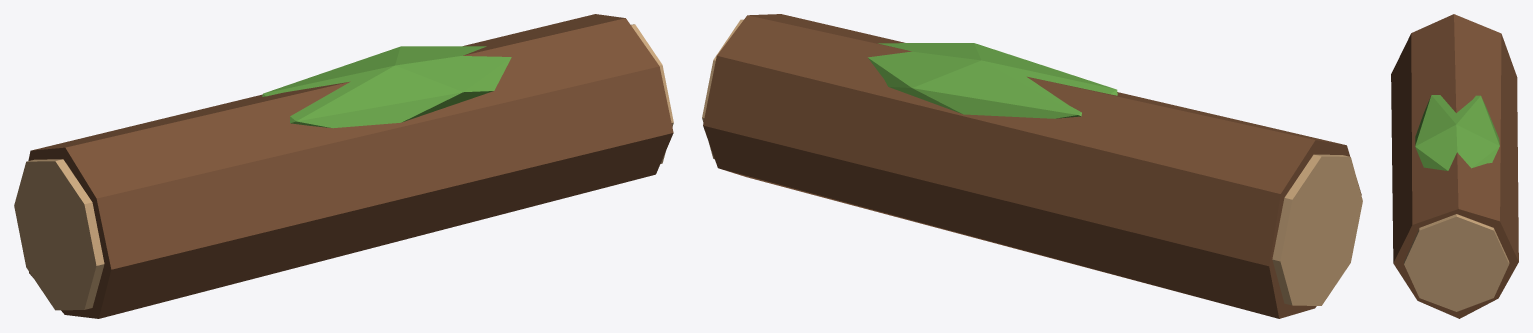
The model's file is wood_log_a.fbx.
3 views of the same model, side by side, from view 1: azimuth 30°, elevation 25°; view 2: azimuth 150°, elevation 25°; view 3: azimuth 270°, elevation 25° (orthographic). The views are drawn at different scales.
Visible parts, largest first — view 1: wood_log_a__bark, wood_log_a__moss, wood_log_a__wood_end; view 2: wood_log_a__bark, wood_log_a__moss, wood_log_a__wood_end; view 3: wood_log_a__bark, wood_log_a__wood_end, wood_log_a__moss.
Part boxes in pixels (left/top/right/bottom): wood_log_a__bark: left=28, top=14, right=673, bottom=318; wood_log_a__moss: left=262, top=46, right=511, bottom=128; wood_log_a__wood_end: left=14, top=24, right=673, bottom=310; wood_log_a__bark: left=703, top=14, right=1361, bottom=318; wood_log_a__moss: left=868, top=43, right=1117, bottom=118; wood_log_a__wood_end: left=702, top=19, right=1362, bottom=305; wood_log_a__bark: left=1391, top=14, right=1518, bottom=318; wood_log_a__wood_end: left=1404, top=214, right=1509, bottom=311; wood_log_a__moss: left=1415, top=95, right=1499, bottom=170.
Bounding box in the file's own units: 504 × 143 × 141.
